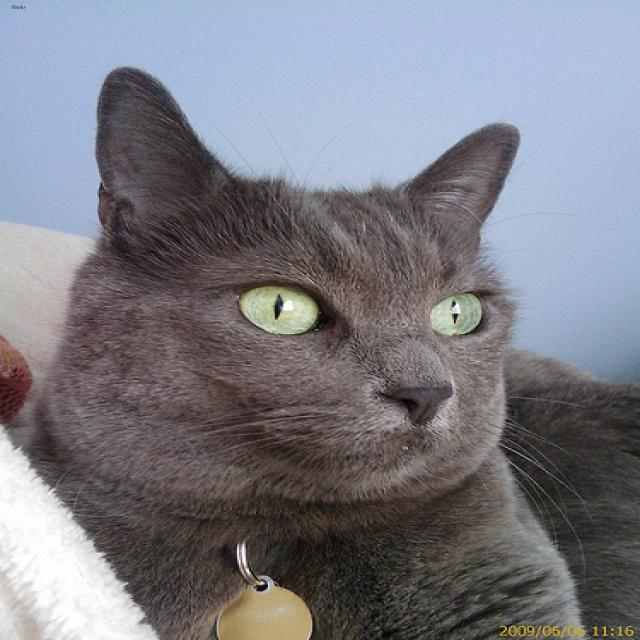cat: (94, 65, 519, 474)
